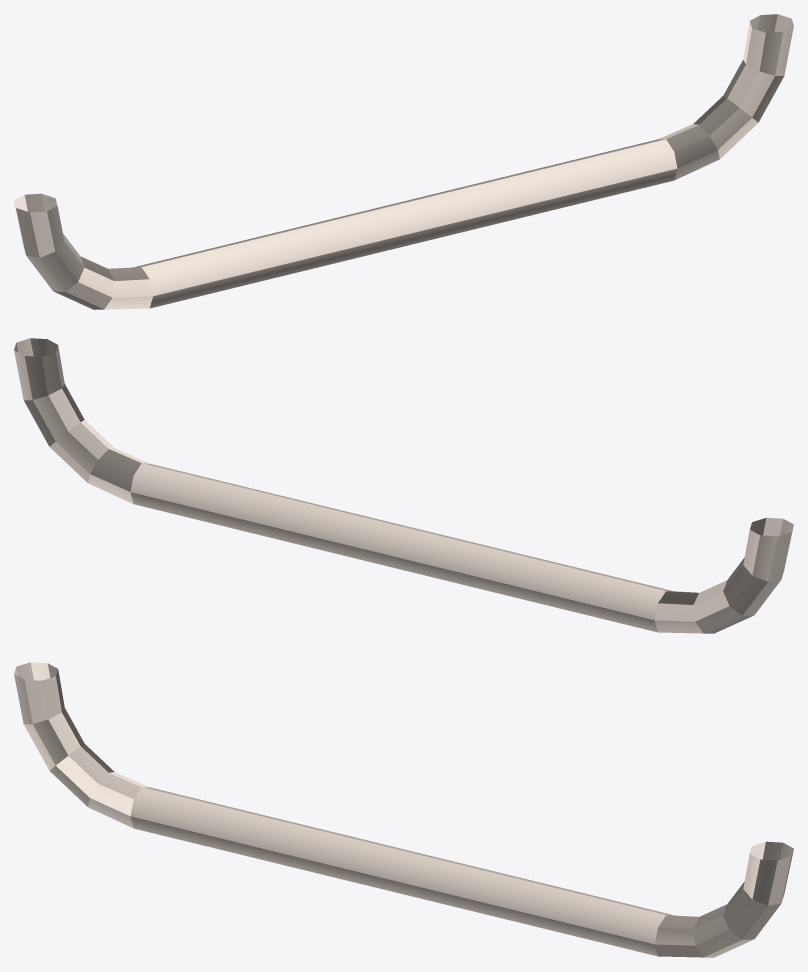
Rendered from ToasterLever_28_ToasterLever_28_1_GeomSubset_2.obj.
3 views of the same model, one above another, from view 1: azimuth 30°, elevation 25°; view 2: azimuth 150°, elevation 25°; view 3: azimuth 330°, elevation 25° (orthographic).
Parts seen in each view (by area): view 1: ToasterLever_28_ToasterLever_28_1_GeomSubset_2; view 2: ToasterLever_28_ToasterLever_28_1_GeomSubset_2; view 3: ToasterLever_28_ToasterLever_28_1_GeomSubset_2.
Part boxes in pixels (box(x1,y1,x2,y2)): ToasterLever_28_ToasterLever_28_1_GeomSubset_2: box(14, 14, 793, 309); ToasterLever_28_ToasterLever_28_1_GeomSubset_2: box(14, 338, 793, 633); ToasterLever_28_ToasterLever_28_1_GeomSubset_2: box(14, 662, 793, 957).
Bounding box in the file's own units: 0.1427 × 0.0231 × 0.0073.
